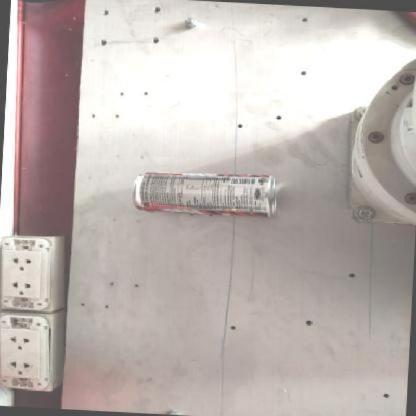Can: (133, 172, 277, 218)
